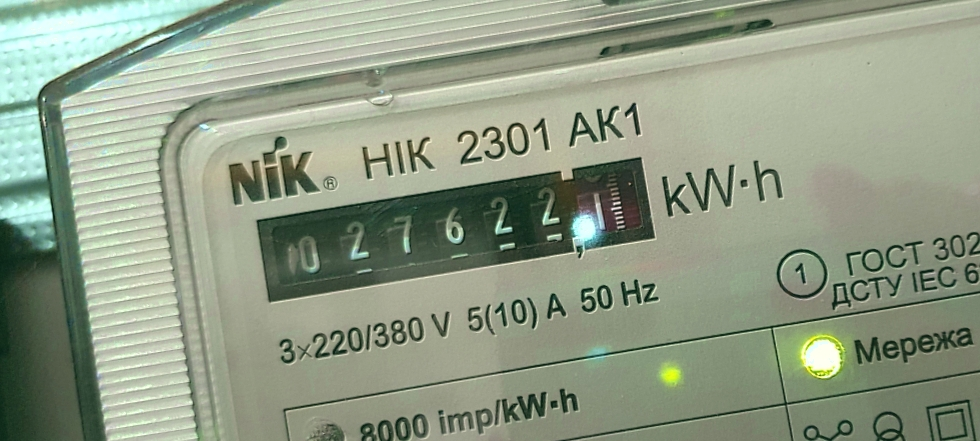0: (294, 231, 325, 276)
1: (588, 188, 611, 233)
2: (343, 217, 373, 263), (486, 193, 517, 237), (535, 183, 563, 228)
6: (440, 203, 468, 247)
7: (391, 212, 421, 258)
screen: (242, 145, 671, 311)
